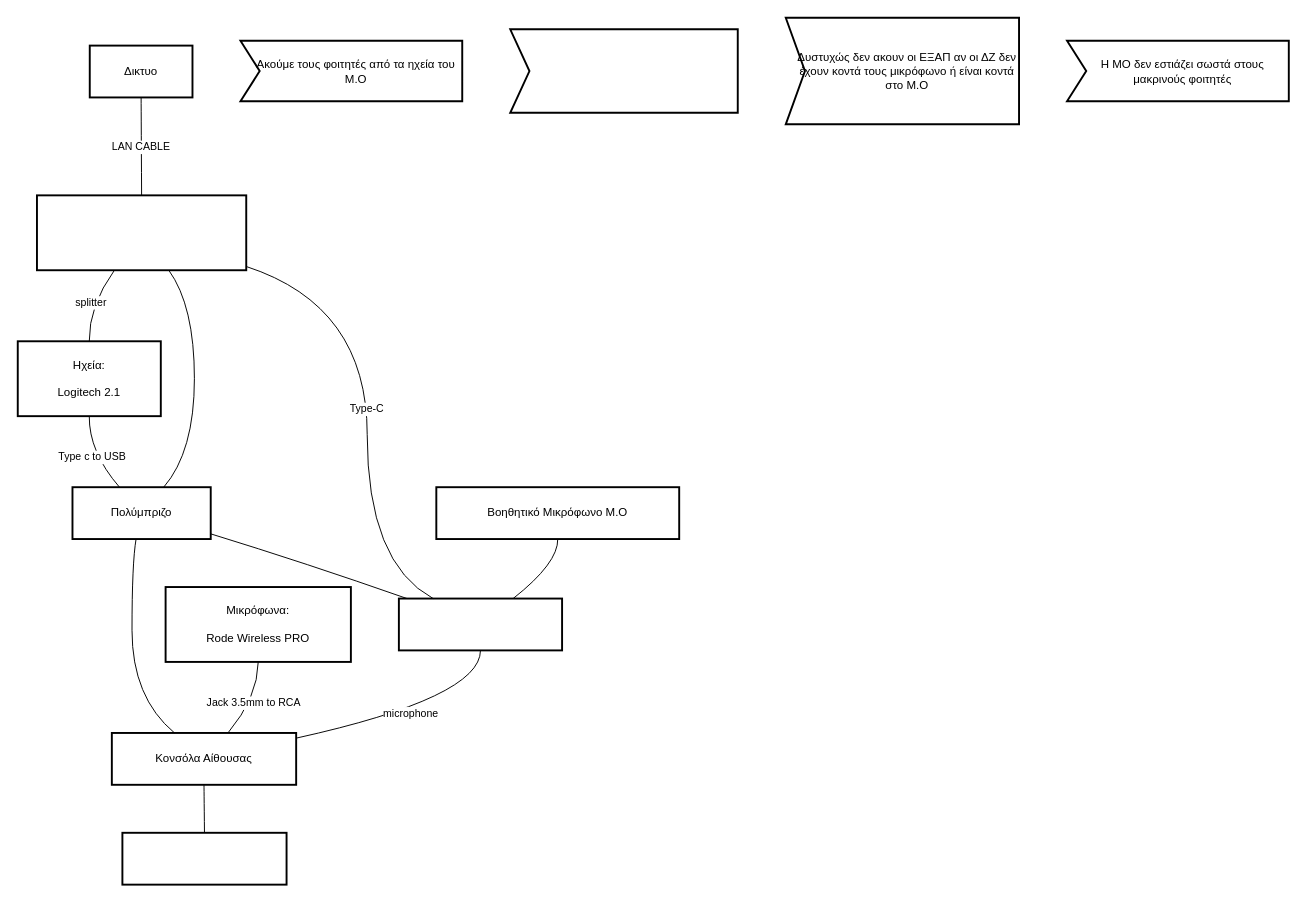
Image size: 1306x901. Some labels were removed from this diagram. The shapes that lost their labels are listed below. From the top down, each one's centre as x and y in pixels, then its label:
At (x=623, y=70): "ΟΙ ΕΞΑΠ ακουν απο τα μικρόφωνα του M.Owl το οποίο πιάνει ήχο από τα PA".
At (x=141, y=232): "LAPTOP: MSI CYBORG 15 A13VE".
At (x=480, y=624): "Meeting Owl 4+".
At (x=204, y=858): "Ηχεία Αίθουσας".
